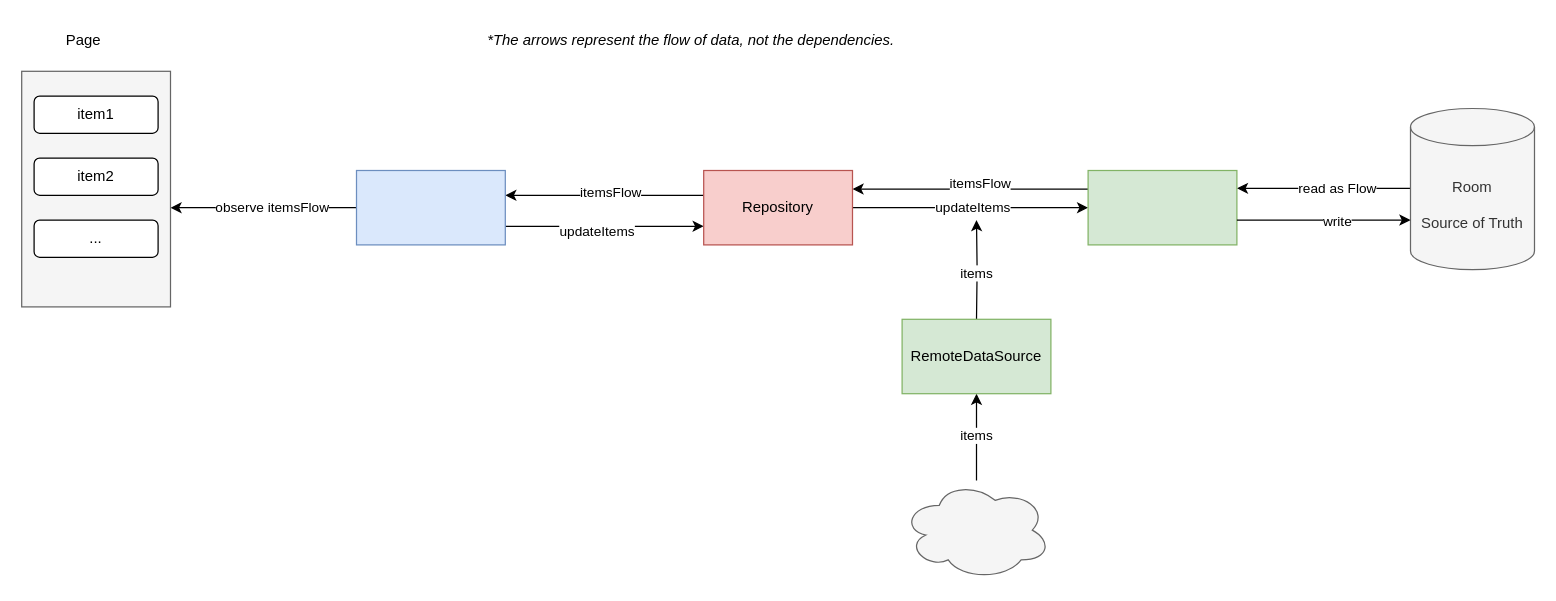
Image size: 1556x601. Some labels were removed from this diagram. Each missing label, with the centre of its shape:
"API" goes at (x=976, y=529).
"LocalDataSource" goes at (x=1162, y=207).
"ViewModel" goes at (x=430, y=207).
